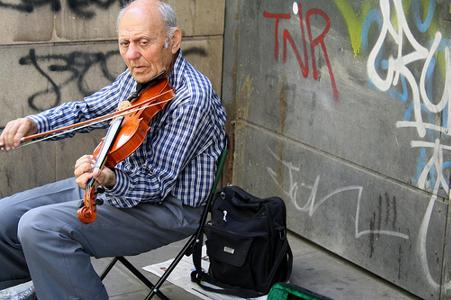person: (1, 1, 228, 300)
